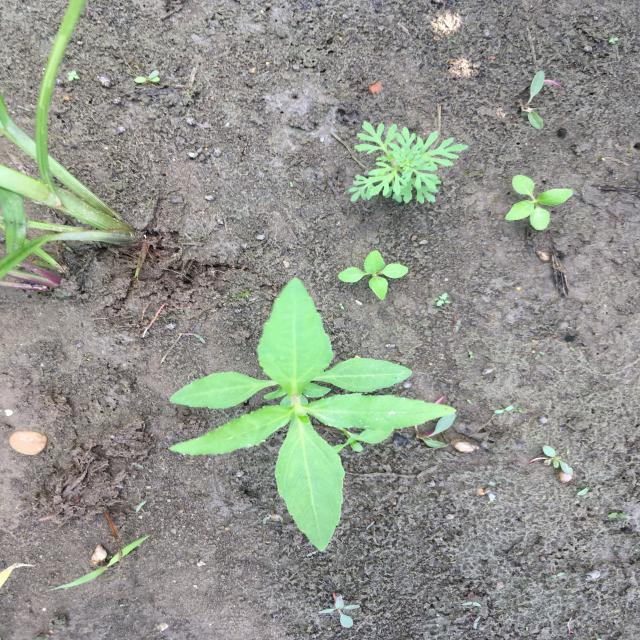Eclipta: (162, 274, 462, 556)
Ragweed: (346, 118, 473, 208)
